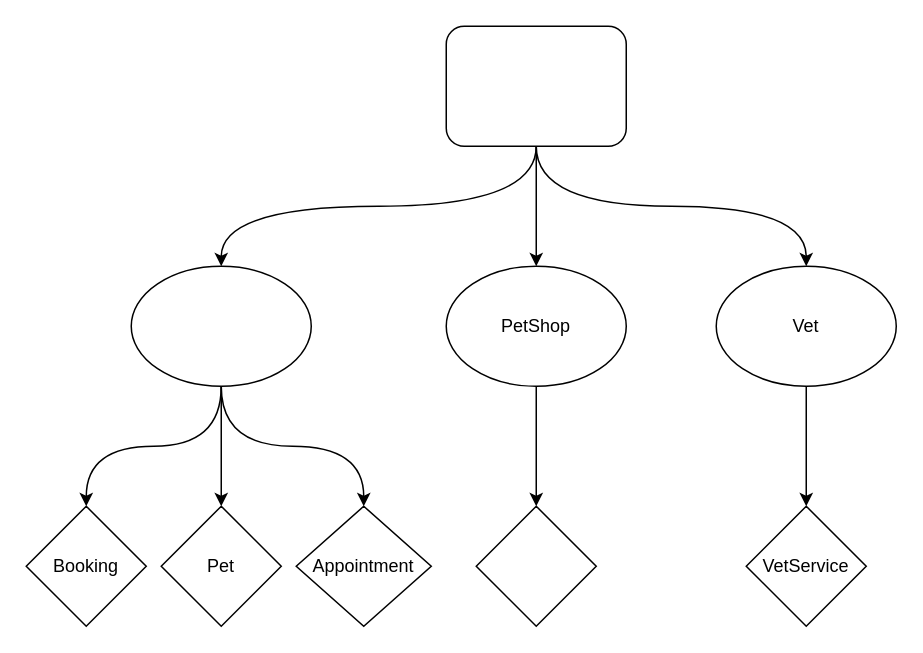
This 923x653 diagram has some shape labels left out. The centre of each missing label's shape, as x and y in pixels:
"Client" goes at point (220, 325).
"Service" goes at point (535, 565).
"User" goes at point (535, 85).
